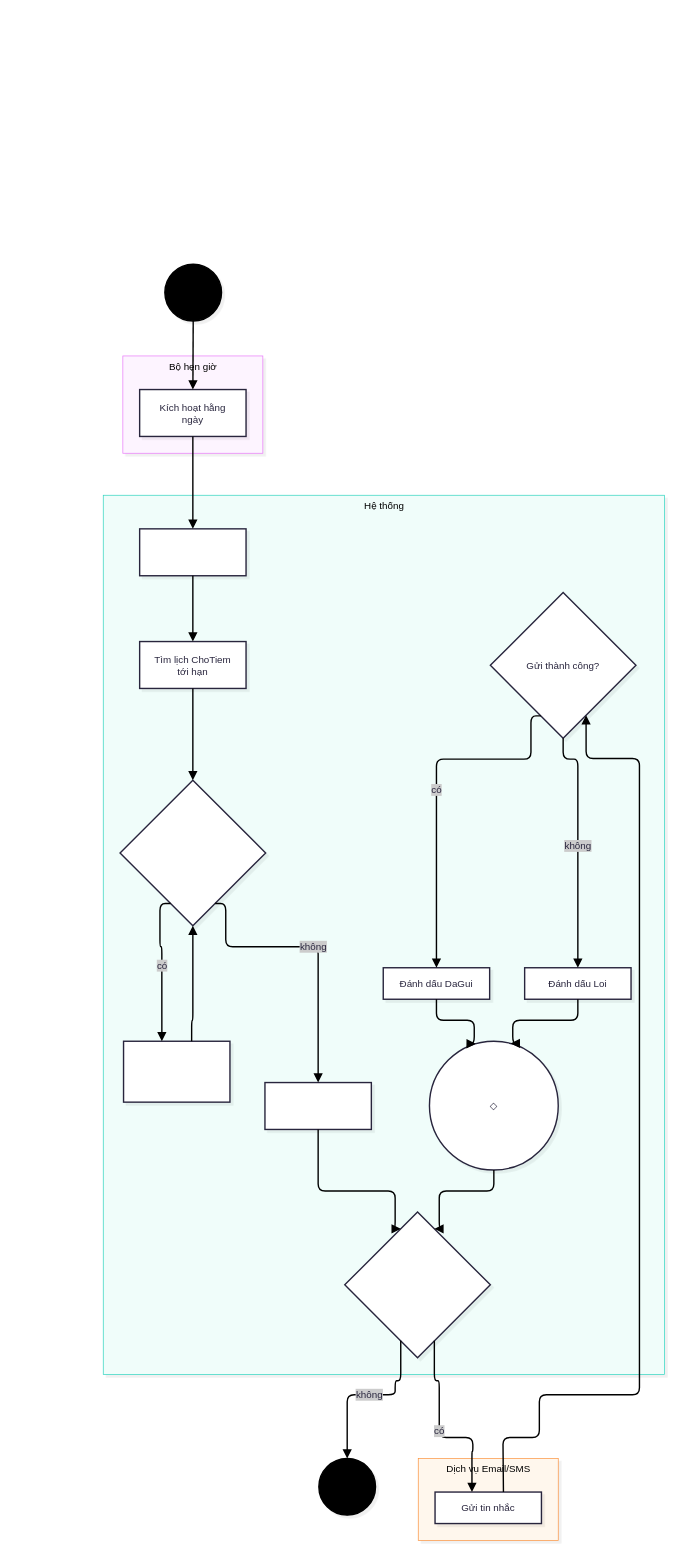
The diagram is 680 pixels wide and 1555 high, and some of its shapes have lost their labels. The centre of each missing label's shape, as x and y in pixels:
Còn lịch tới hạn chưa có nhắc?: [194,854]
Còn nhắc cần gửi?: [418,1286]
Lấy các NhacLich ChoGui: [319,1107]
Tạo NhacLich trạng thái ChoGui: [177,1072]
Đọc tham số SoNgayNhacTruoc: [194,553]
